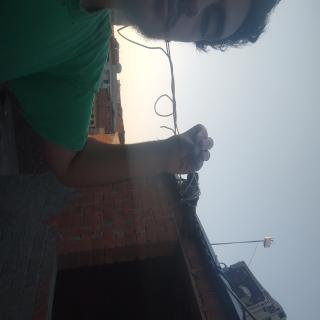HA: (89, 141, 137, 206)
